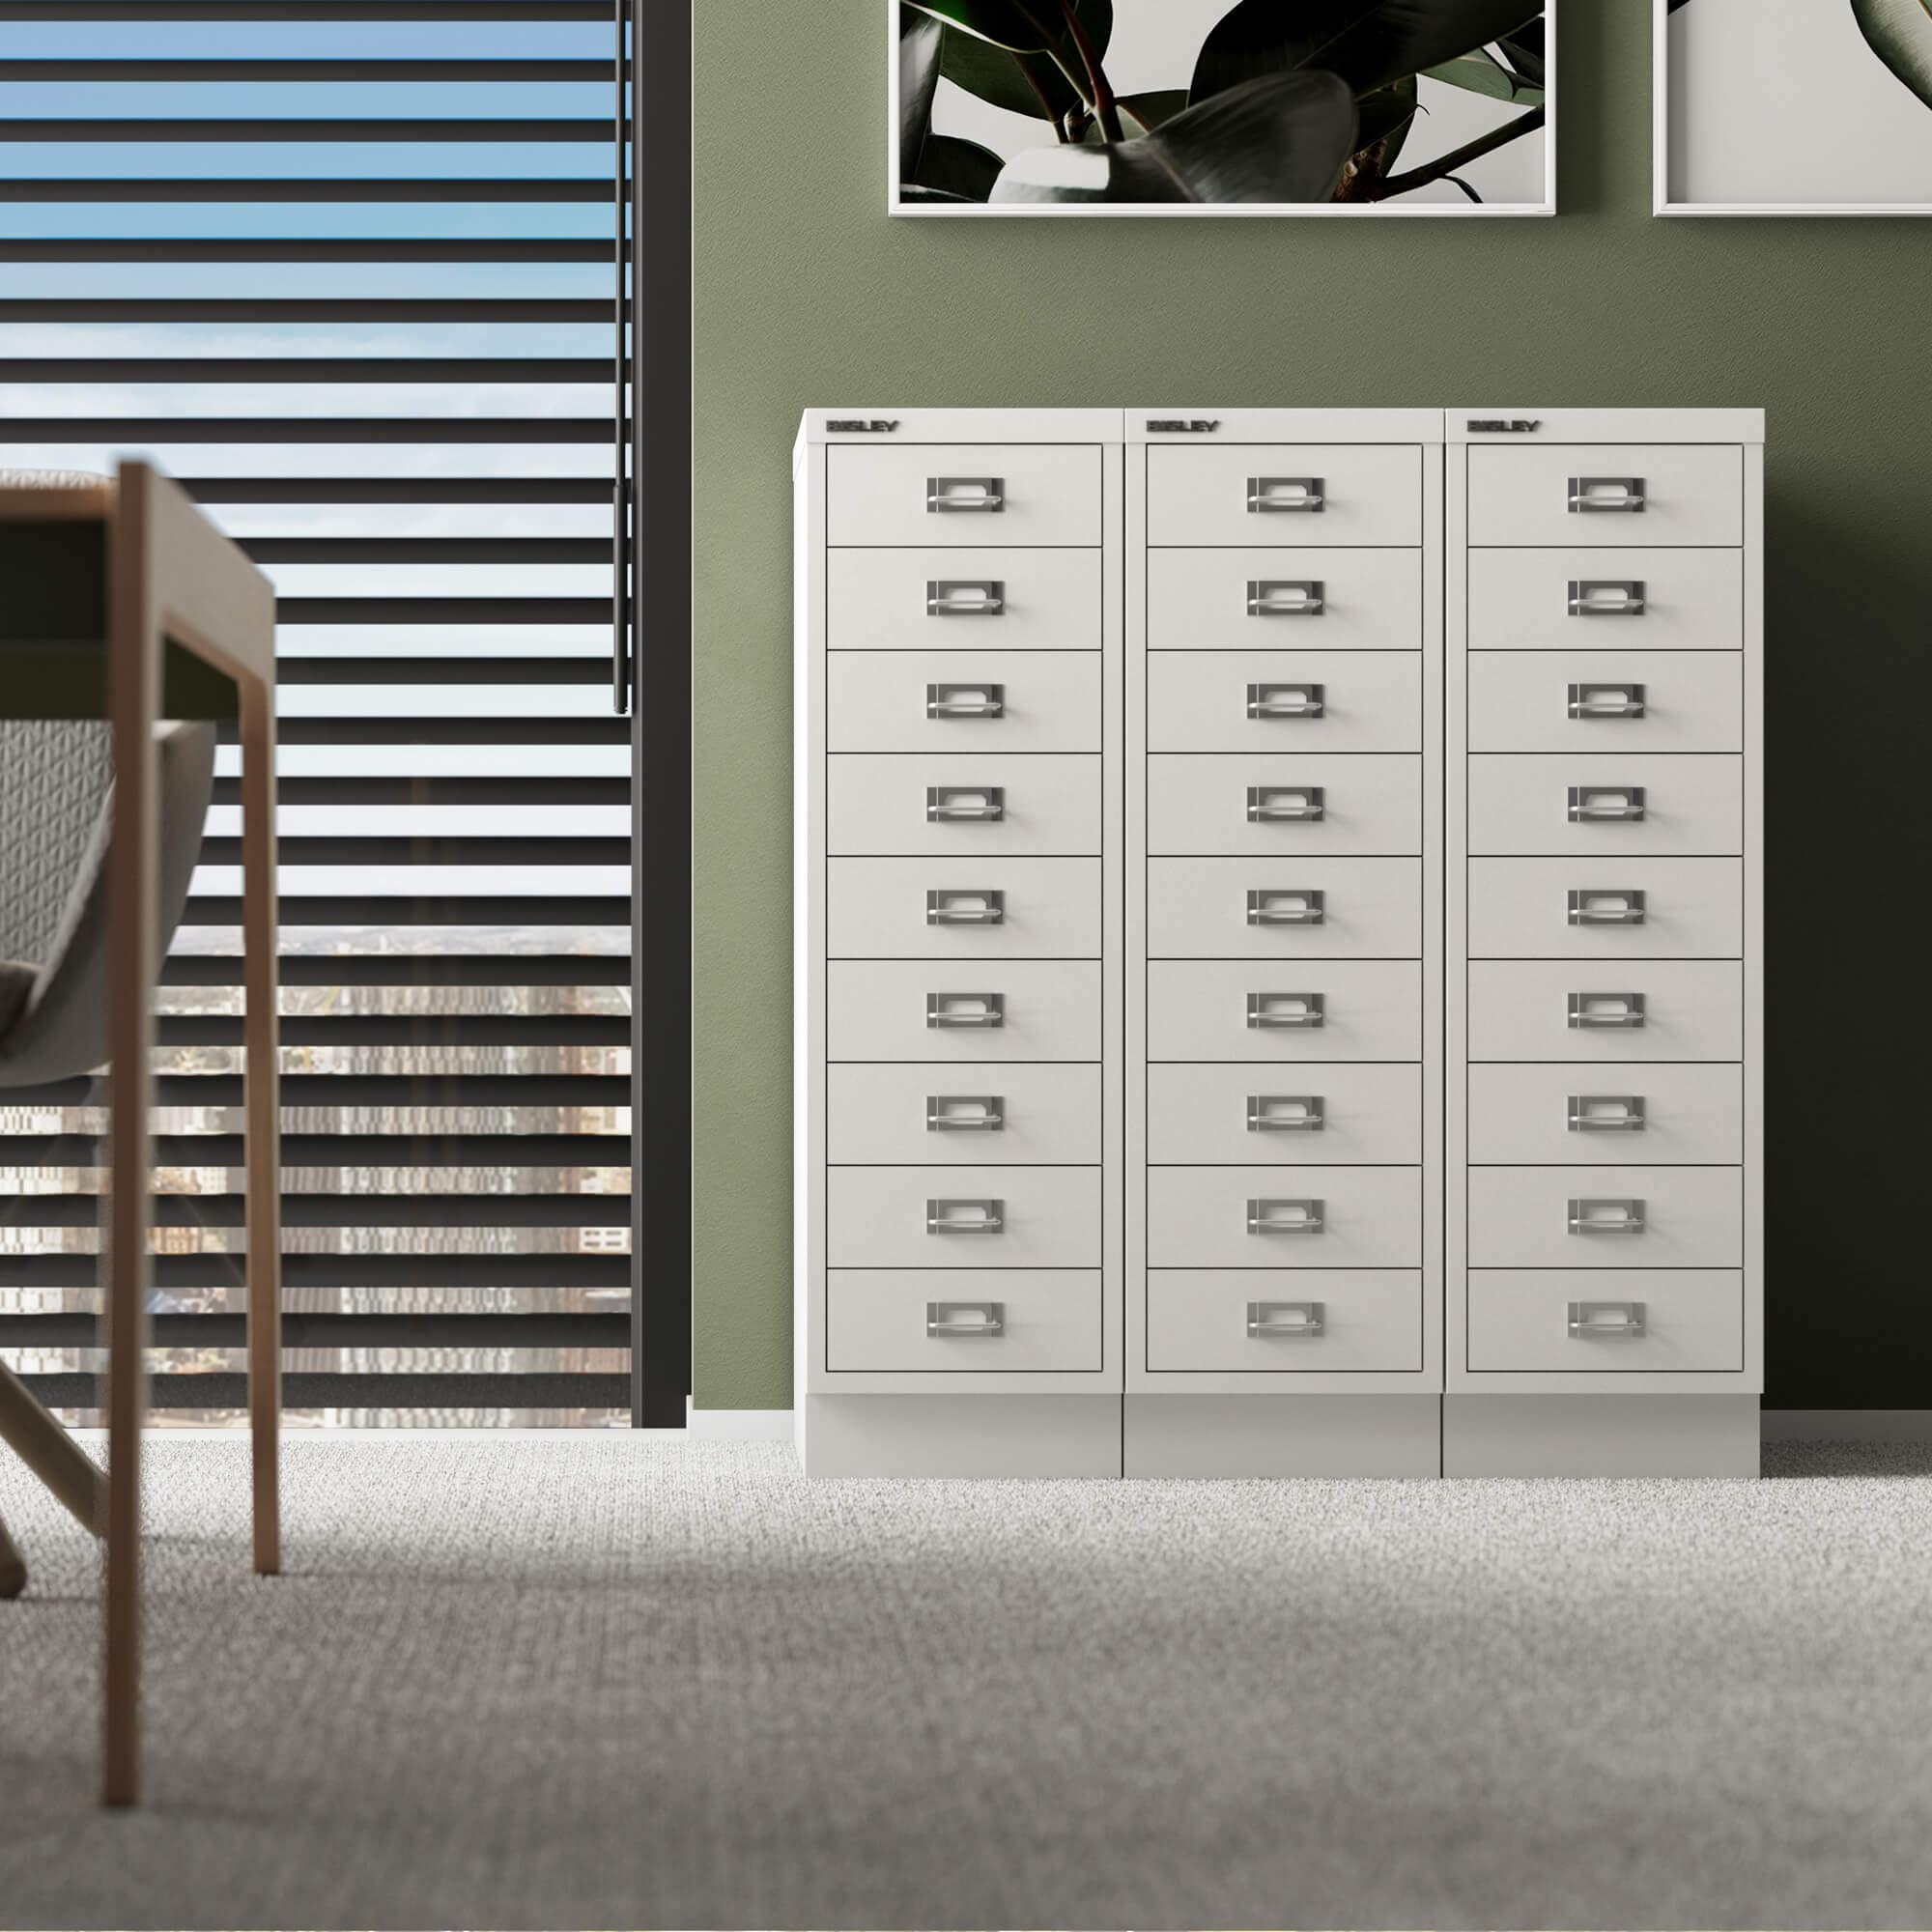Filing Cabinet: (1120, 405, 1445, 1481), (1442, 405, 1766, 1476), (801, 407, 1122, 1479)
